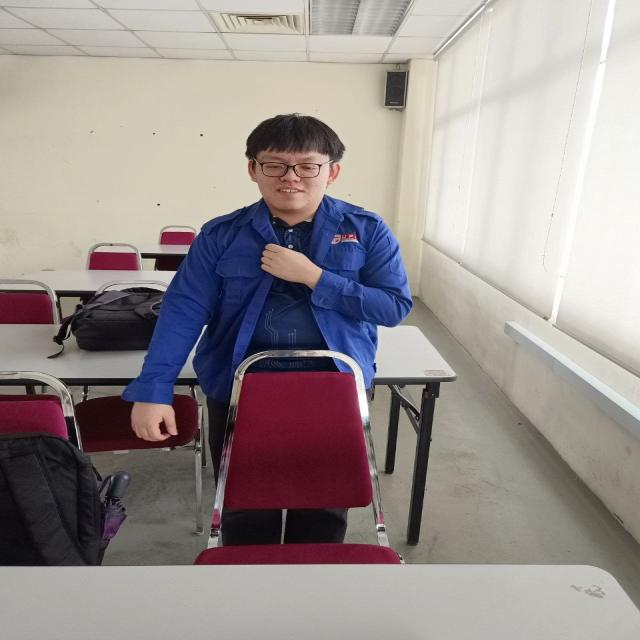person_with_labcoat: (123, 114, 412, 473)
